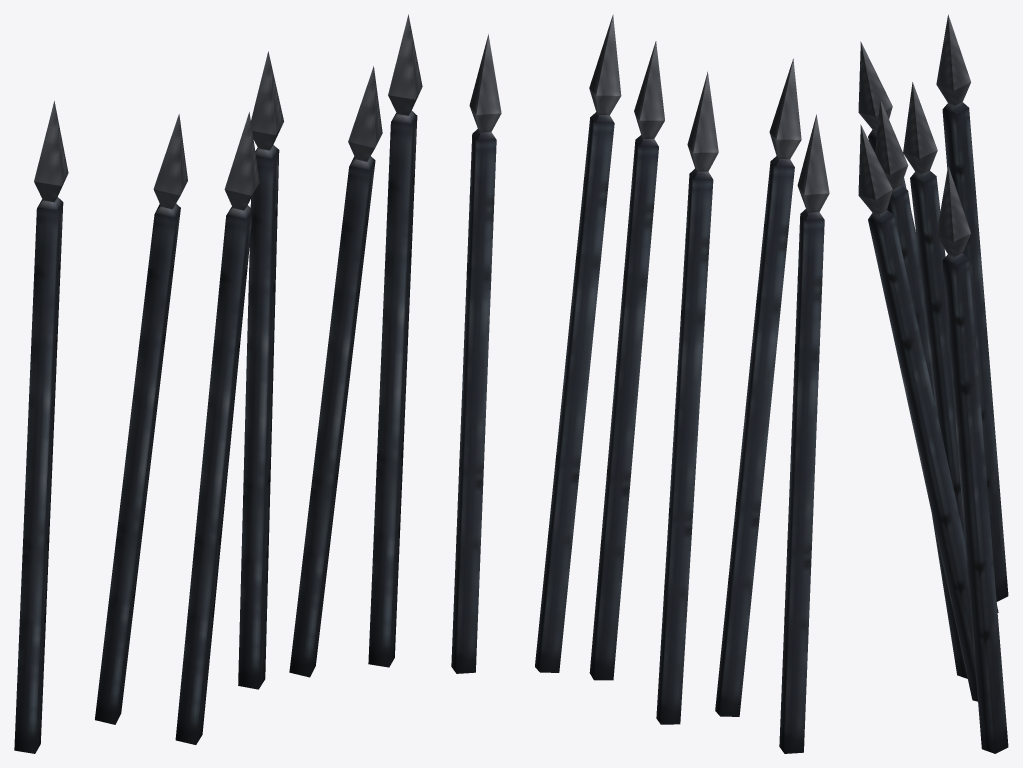
Rendered from env_cem_verja_09.FBX.
3 views of the same model, side by side, from view 1: azimuth 30°, elevation 25°; view 2: azimuth 150°, elevation 25°; view 3: azimuth 270°, elevation 25° (orthographic). The views are drawn at different scales.
Visible parts, largest first — view 1: env_cem_verja_09; view 2: env_cem_verja_09; view 3: env_cem_verja_09.
Boxes of the visible parts, left/top/right/bottom form: env_cem_verja_09: left=14, top=14, right=422, bottom=753; env_cem_verja_09: left=451, top=14, right=829, bottom=753; env_cem_verja_09: left=858, top=14, right=1008, bottom=753.
Bounding box in the file's own units: 290 × 500 × 111.
